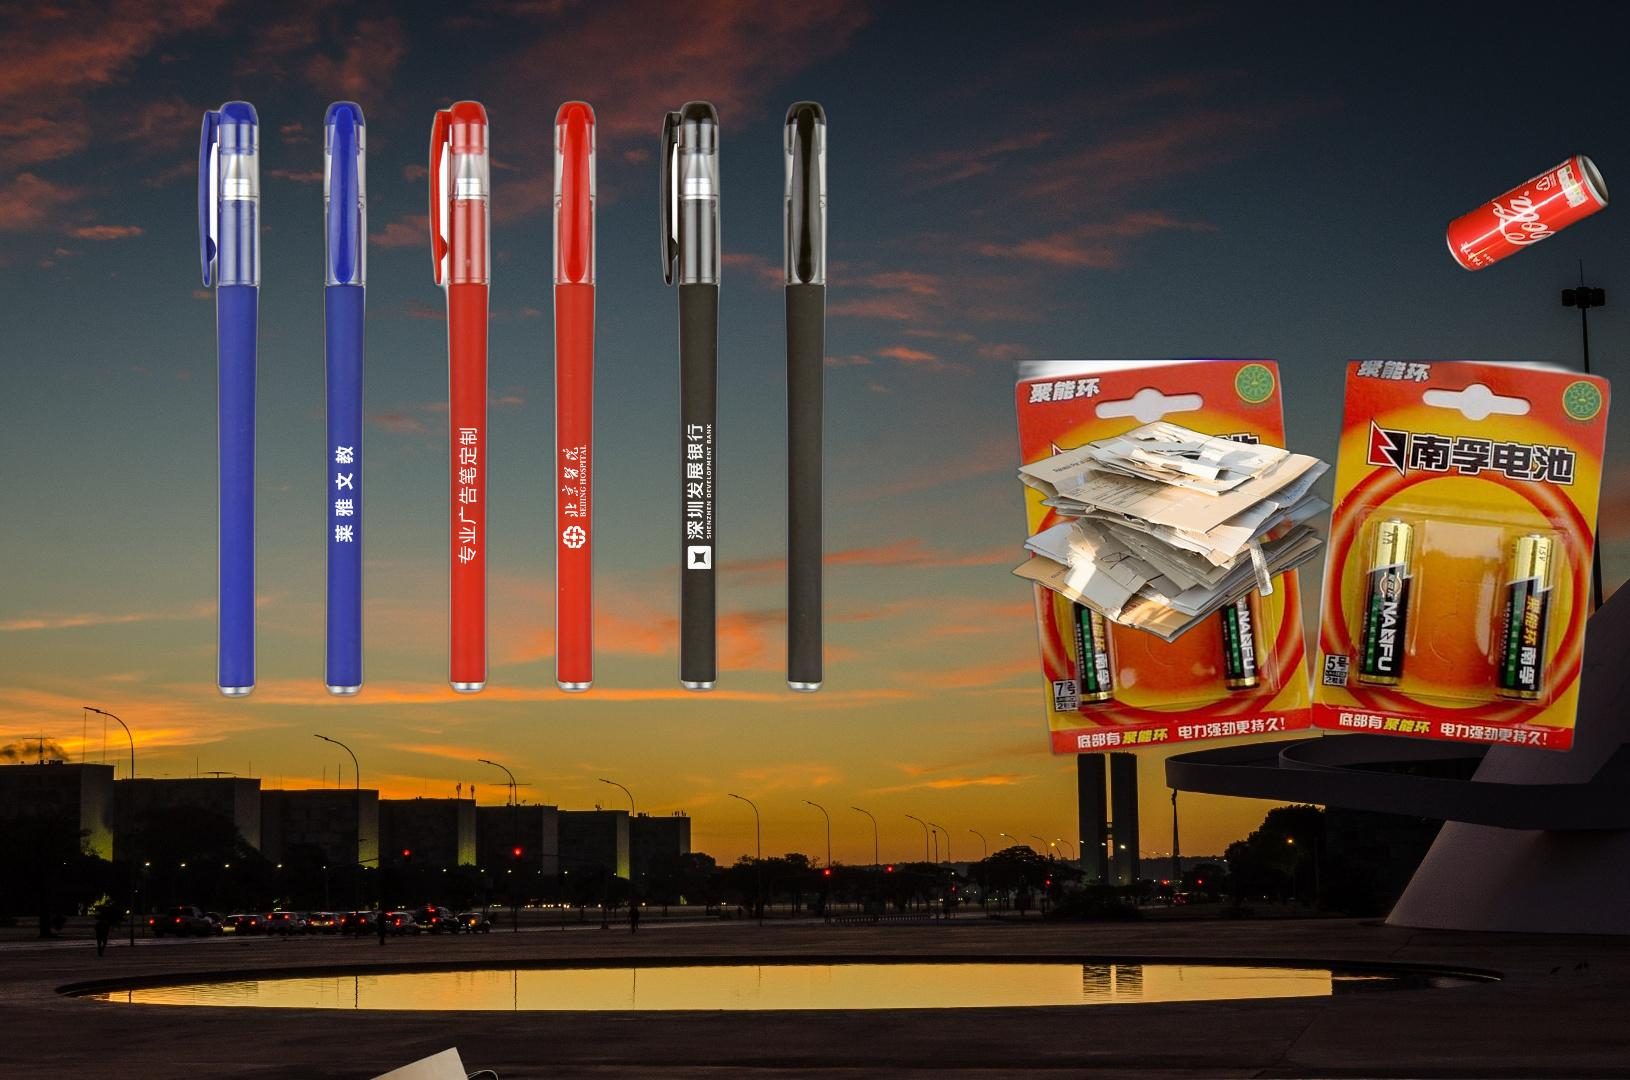battery: (1013, 346, 1611, 760)
metal-cans: (1442, 96, 1630, 404)
paper-bag: (353, 1044, 543, 1080)
penholder: (190, 94, 834, 705)
trashbox-cardboard: (1009, 417, 1353, 646)
